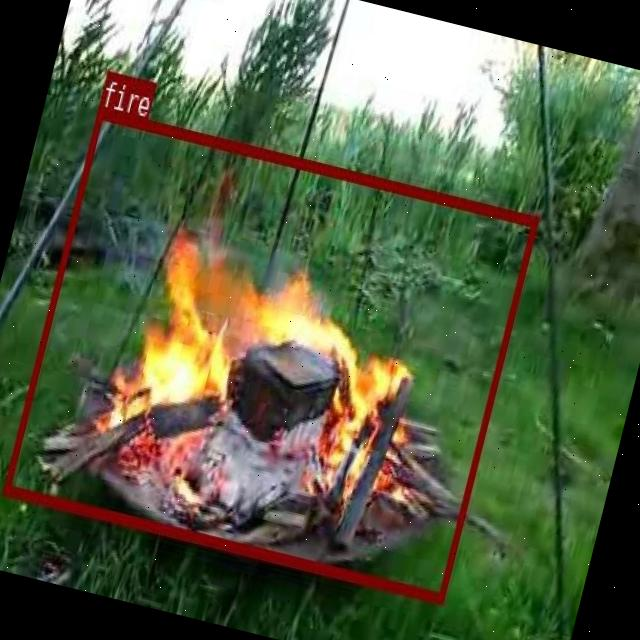fire: (2, 107, 538, 601)
